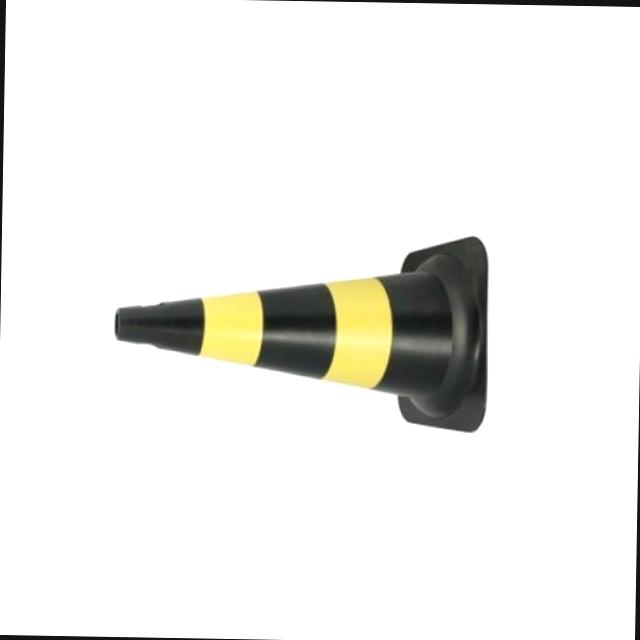cone: (107, 218, 491, 457)
